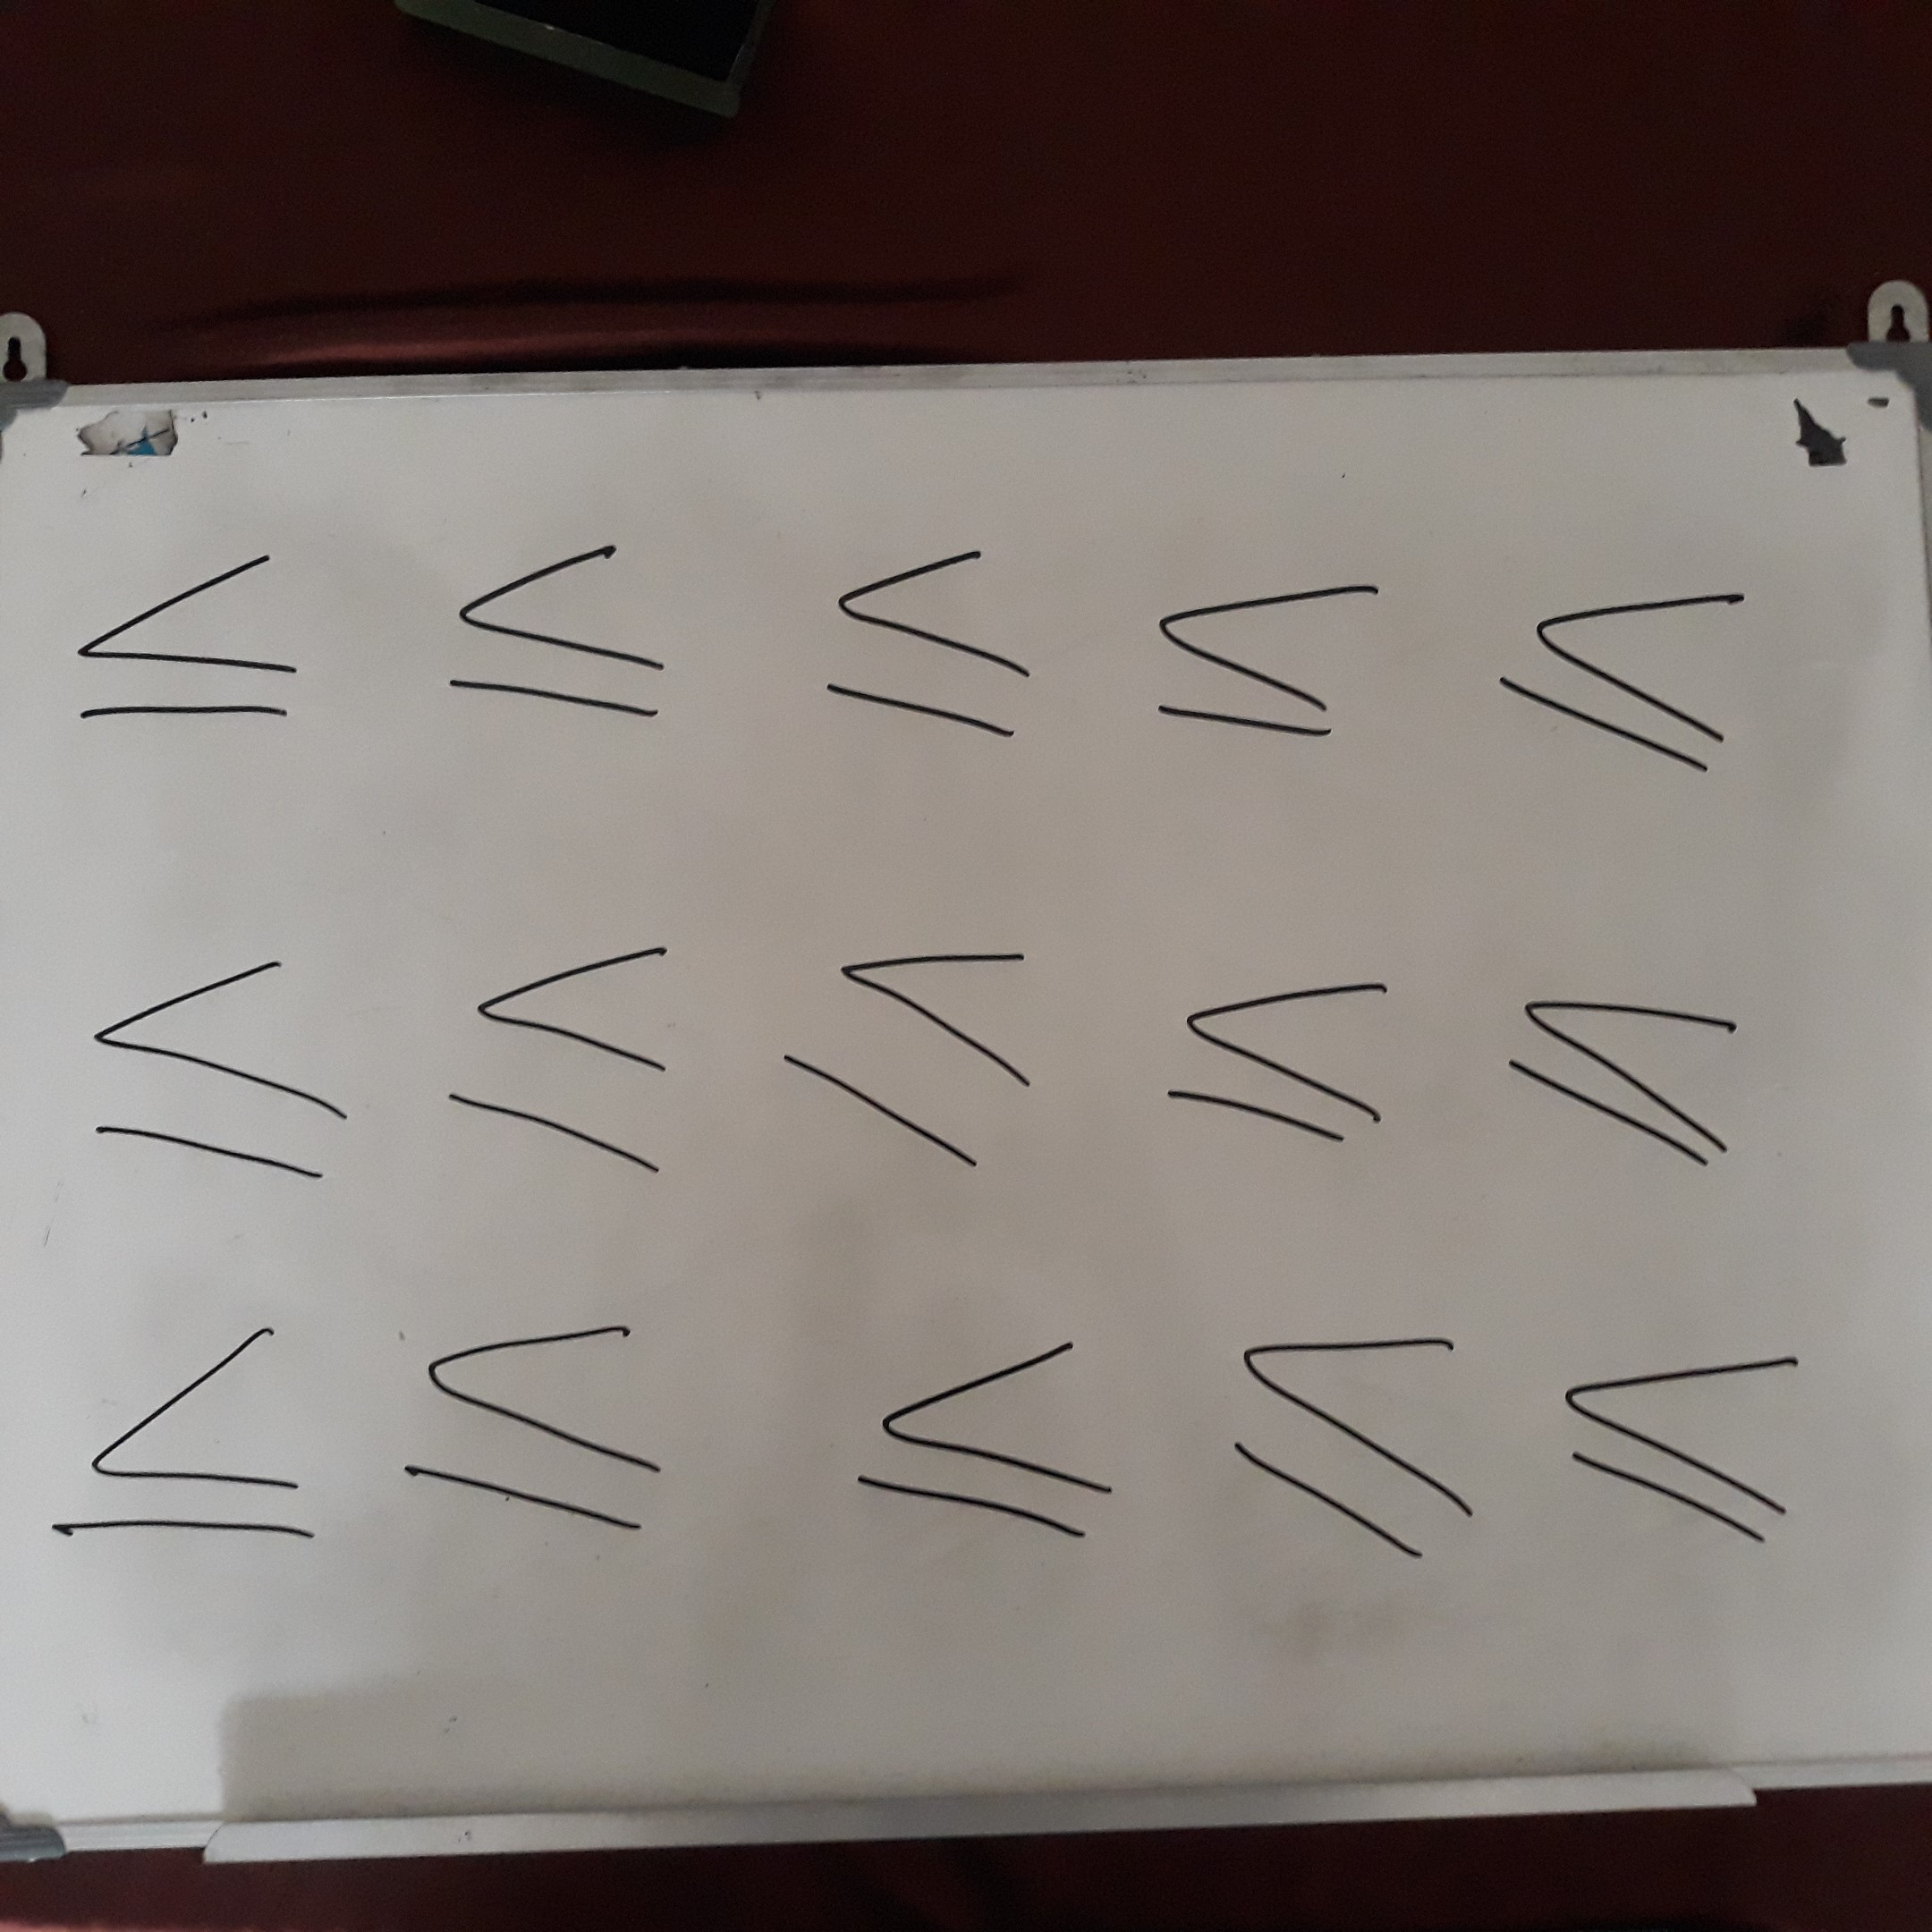lessthan-equal: (395, 1288, 682, 1567), (71, 938, 358, 1217), (44, 1295, 331, 1574), (837, 1290, 1124, 1569), (1544, 1317, 1831, 1596), (768, 914, 1055, 1193), (425, 919, 712, 1199), (1147, 914, 1434, 1193), (1479, 923, 1766, 1202), (1210, 1294, 1497, 1573), (51, 538, 330, 748), (801, 538, 1080, 748), (1129, 558, 1408, 768), (413, 519, 692, 729), (1494, 571, 1773, 781)
